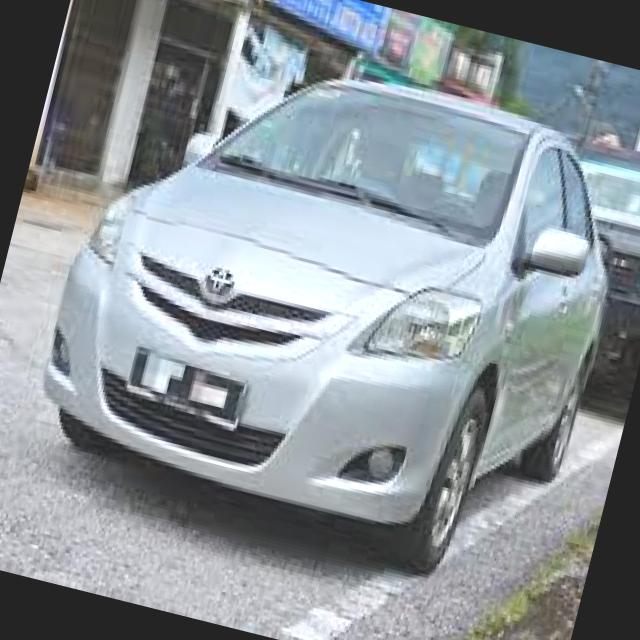ToyotaVios: (16, 12, 640, 602)
